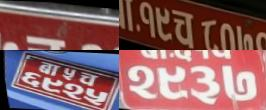0: (214, 18, 238, 50)
1: (133, 0, 158, 39), (249, 28, 266, 50), (189, 50, 210, 63)
2: (123, 62, 158, 100), (60, 82, 85, 100)
3: (184, 63, 222, 106), (70, 37, 111, 50)
5: (79, 86, 108, 107), (58, 66, 79, 81)
6: (16, 71, 43, 88), (170, 50, 193, 62)
7: (217, 62, 260, 103), (231, 23, 256, 50), (0, 26, 25, 50)
8: (195, 15, 221, 50)
9: (154, 62, 189, 99), (151, 3, 174, 42), (37, 76, 66, 94)
ba: (119, 0, 137, 32), (35, 61, 62, 76), (134, 50, 169, 61)
cha: (167, 6, 199, 50), (19, 31, 70, 50), (76, 70, 101, 88)
pa: (205, 50, 235, 60)
